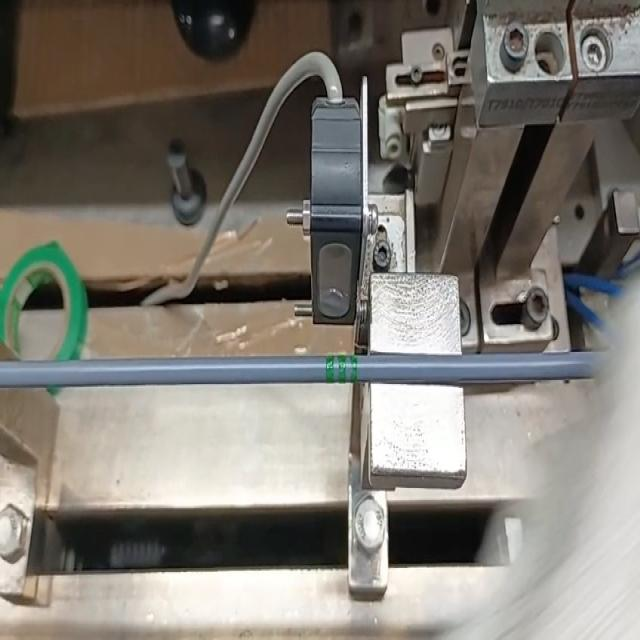green: (324, 354, 358, 381)
